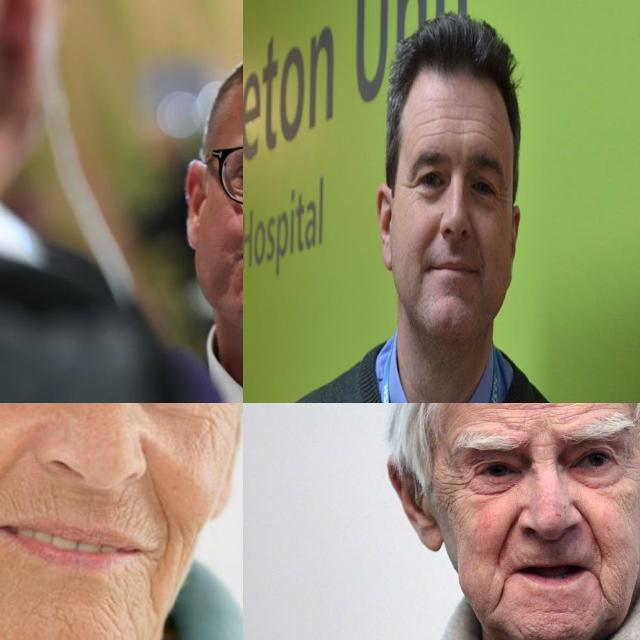crows_feet: (448, 468, 474, 498), (404, 172, 419, 195), (494, 186, 506, 213)
forehead: (439, 107, 460, 141), (495, 403, 552, 415), (464, 106, 482, 142), (413, 113, 434, 143), (485, 108, 500, 148), (574, 403, 610, 417)
gummy_smile: (144, 459, 180, 541), (0, 433, 26, 499), (496, 508, 522, 556), (576, 510, 604, 552)
masseter: (204, 408, 230, 456)
sad_smile: (142, 566, 162, 616), (488, 578, 514, 612), (592, 574, 614, 606)
smoker_lines: (8, 482, 62, 516), (106, 496, 150, 528)
